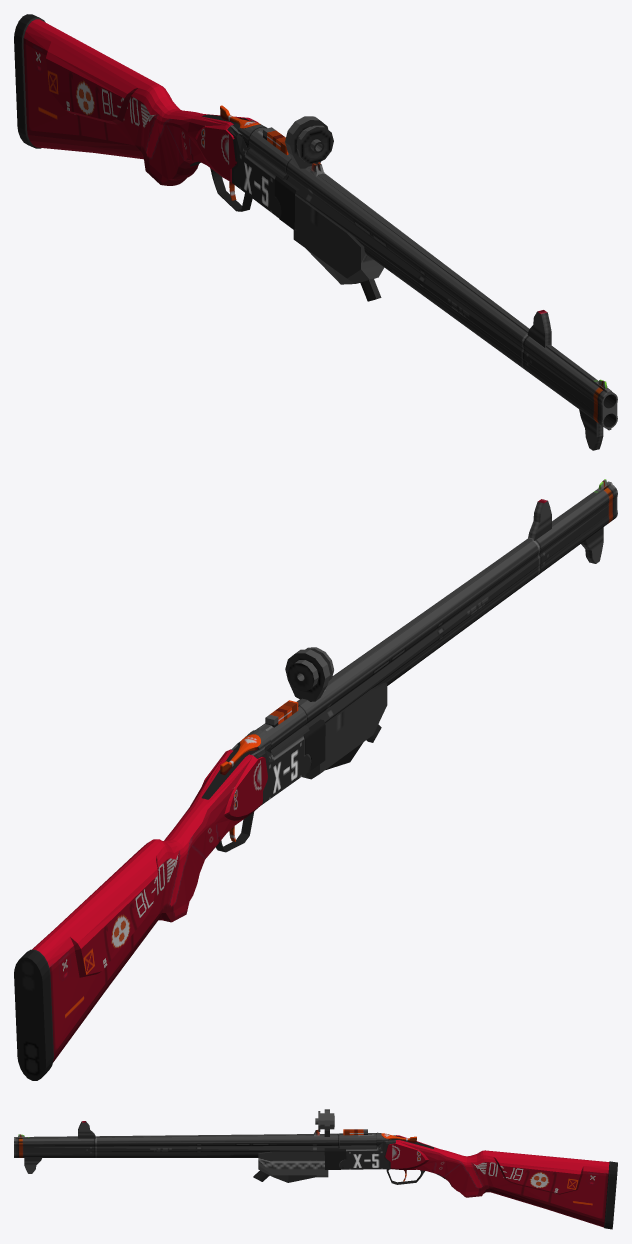
Rendered from Rifle.fbx.
3 views of the same model, one above another, from view 1: azimuth 30°, elevation 25°; view 2: azimuth 150°, elevation 25°; view 3: azimuth 270°, elevation 25° (orthographic). The views are drawn at different scales.
Parts seen in each view (by area): view 1: Rifle; view 2: Rifle; view 3: Rifle.
Part boxes in pixels (x1=…): Rifle: x1=14, y1=14, x2=617, y2=450; Rifle: x1=14, y1=479, x2=617, y2=1080; Rifle: x1=14, y1=1109, x2=617, y2=1229.
Size of the model in its own units: 0.0421 by 0.2297 by 1.06.
